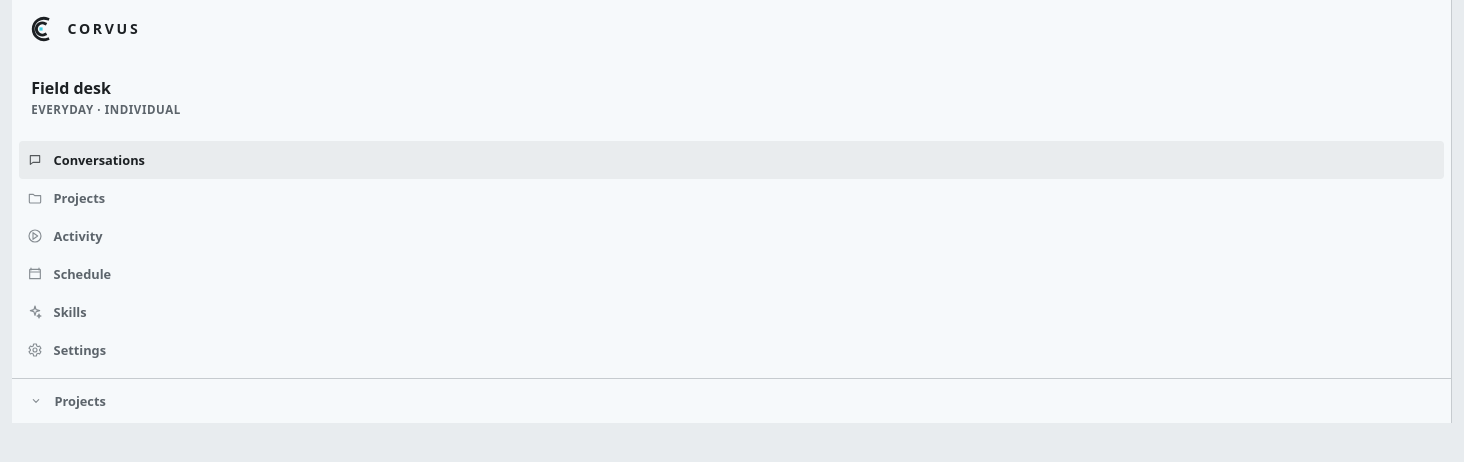
NavigationRail › keeps project context secondary behind an accessible disclosure
Click the button "Projects" at (80, 401), box [12,379,1451,423]
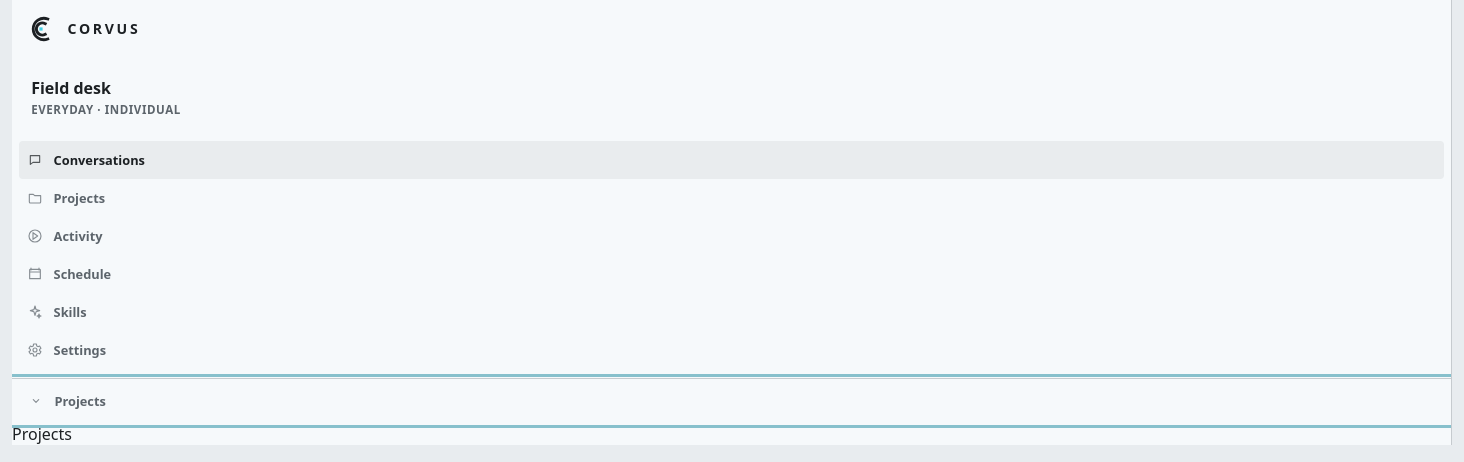
Expected: the text "Projects" is shown, [12,423,72,445]
